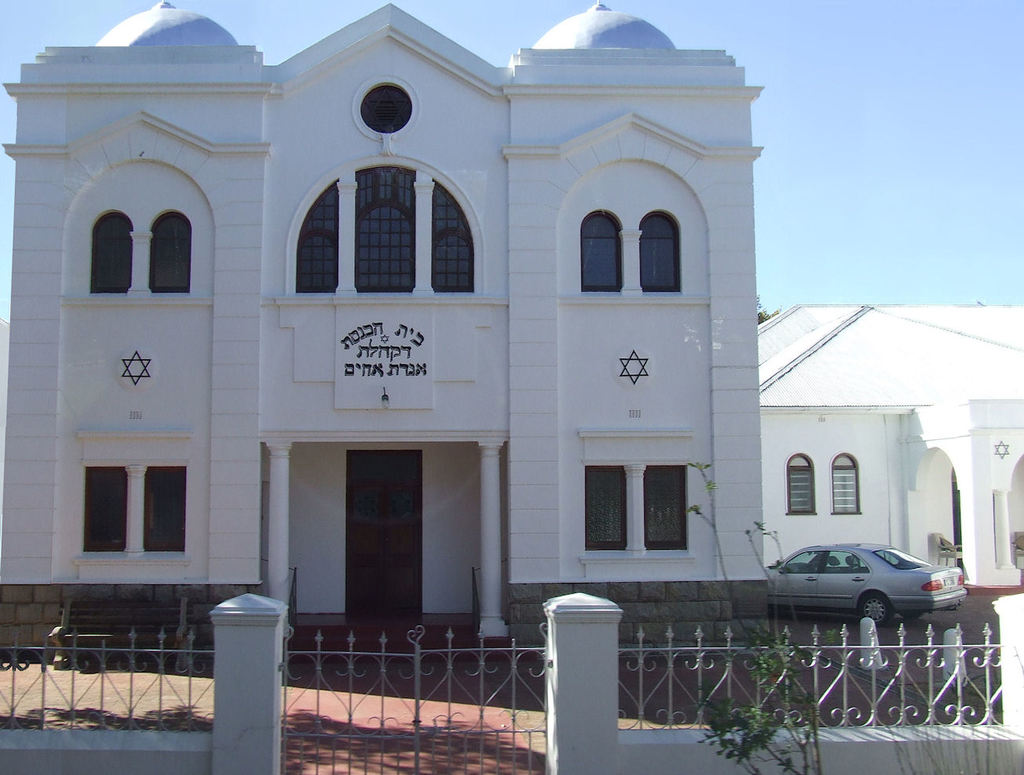Car: (760, 540, 967, 627)
